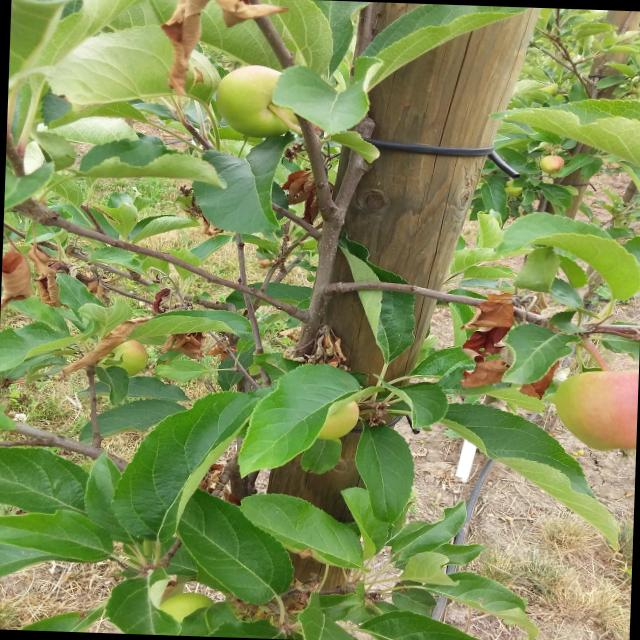-FireBlight-: (157, 0, 272, 98), (459, 289, 542, 415), (1, 232, 66, 314)
